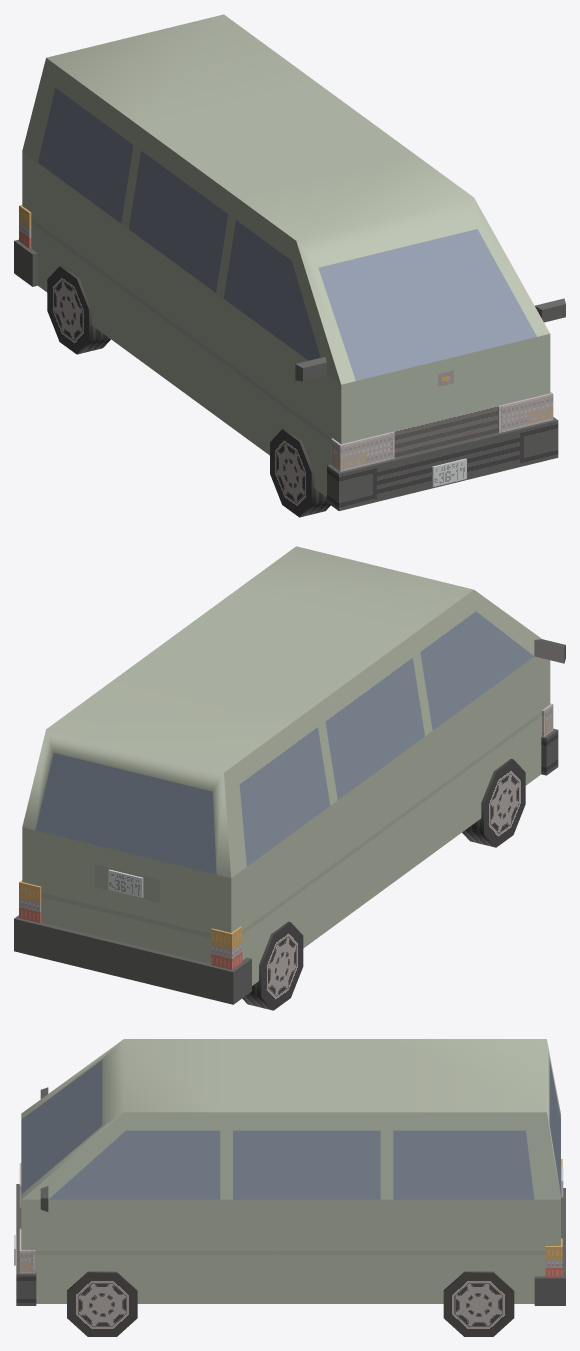
The model's file is 0093_Van.glb.
The picture shows the model from 3 angles, top to bottom: view 1: azimuth 30°, elevation 25°; view 2: azimuth 150°, elevation 25°; view 3: azimuth 270°, elevation 25°; orthographic projection. The views are drawn at different scales.
Visible parts, largest first — view 1: part_0, part_2, part_1; view 2: part_0, part_1, part_2; view 3: part_0, part_2, part_1.
Part boxes in pixels (x1,y1,x2,y2): part_0: (14, 14, 565, 510); part_2: (47, 265, 110, 354); part_1: (270, 428, 330, 517); part_0: (14, 546, 565, 1004); part_1: (462, 758, 525, 847); part_2: (242, 921, 303, 1010); part_0: (14, 1039, 565, 1305); part_2: (443, 1271, 514, 1336); part_1: (67, 1271, 137, 1336).
Size of the model in its own units: 2.06 by 1.88 by 4.33.
Materials: 3 (3 with a texture image).
